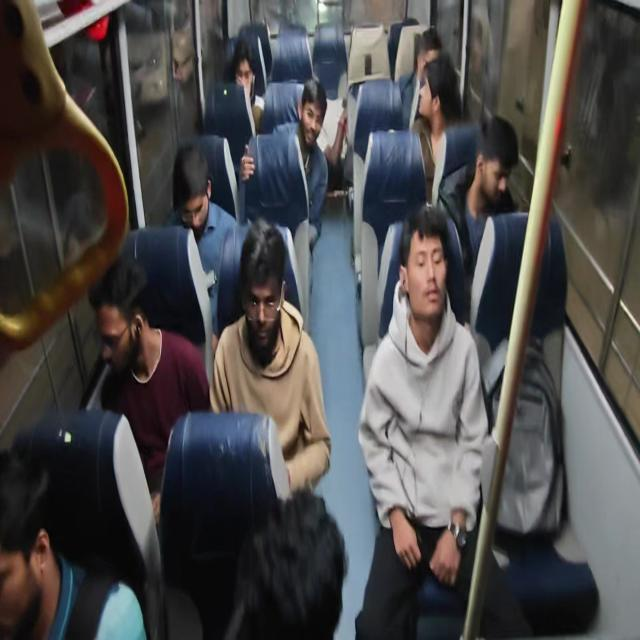person: (211, 507, 330, 640), (9, 443, 72, 628), (383, 217, 449, 314), (240, 248, 292, 357), (180, 144, 231, 253), (94, 270, 149, 370), (295, 82, 331, 149), (476, 147, 517, 204), (421, 75, 470, 118), (415, 35, 449, 84), (228, 56, 264, 95)
